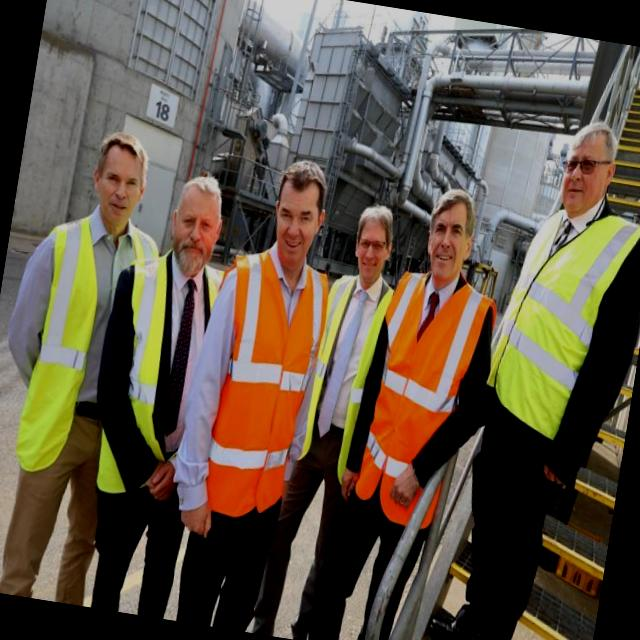goggles: (550, 149, 608, 185)
no-goggles: (94, 158, 150, 206), (268, 198, 329, 238), (172, 208, 222, 247), (426, 216, 475, 249)
no-helmet: (273, 146, 345, 204), (172, 166, 232, 228), (94, 126, 156, 180), (566, 108, 622, 157), (355, 198, 398, 237), (429, 186, 477, 218)
vest: (0, 200, 173, 517), (484, 197, 640, 459), (348, 272, 498, 536), (194, 255, 334, 500)
